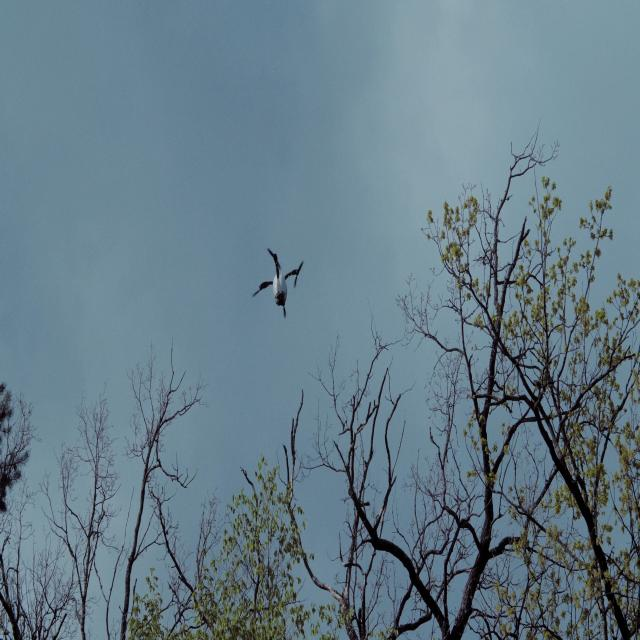Drone: (254, 243, 308, 323)
